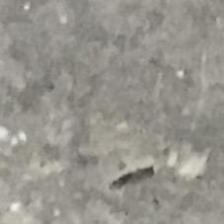Non_Crack: (16, 3, 224, 142)
